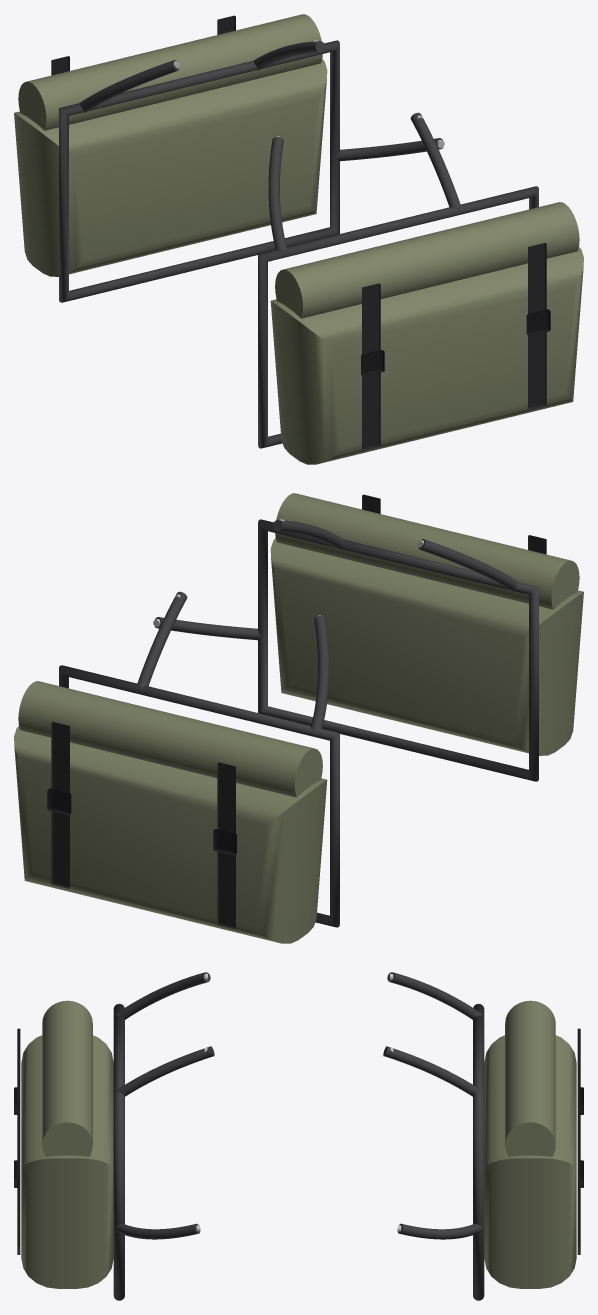
Rendered from soft_bags.glb.
3 renders of one model, top to bottom at view 1: azimuth 30°, elevation 25°; view 2: azimuth 150°, elevation 25°; view 3: azimuth 270°, elevation 25°, orthographic. The views are drawn at different scales.
Visible parts, largest first — view 1: panniers_soft_bags; view 2: panniers_soft_bags; view 3: panniers_soft_bags.
Boxes of the visible parts, x1,y1,x2,y2 form: panniers_soft_bags: [14, 14, 583, 464]; panniers_soft_bags: [14, 493, 583, 943]; panniers_soft_bags: [14, 972, 583, 1300].
Bounding box in the file's own units: 0.6254 × 0.45 × 0.99.
